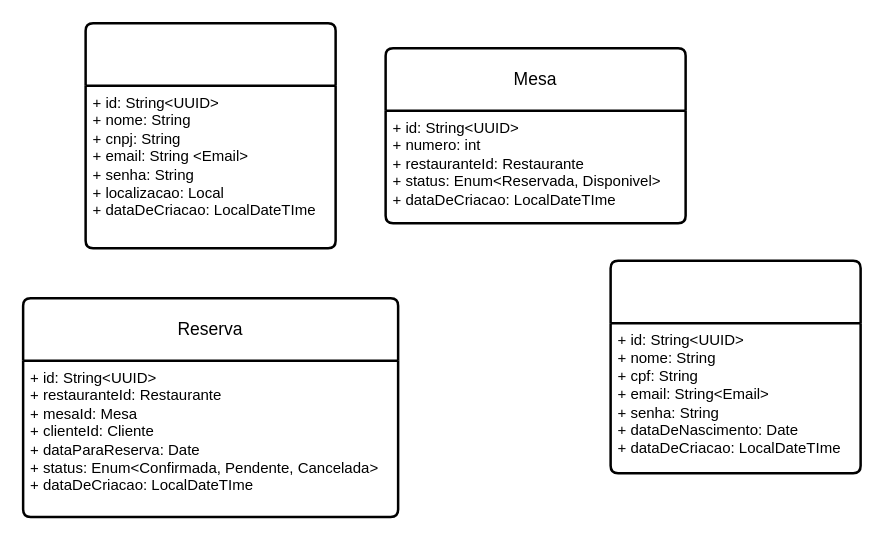
This 883x539 diagram has some shape labels left out. The box of each missing label's shape, as (x1, y1, x2, y2) in pixels:
Cliente: (609, 259, 861, 474)
Restaurante: (84, 21, 336, 249)
